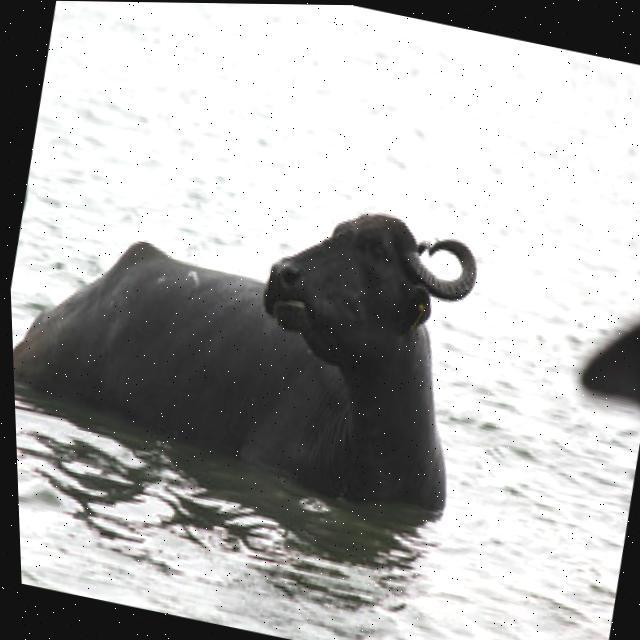Buffalo: (5, 135, 502, 528)
